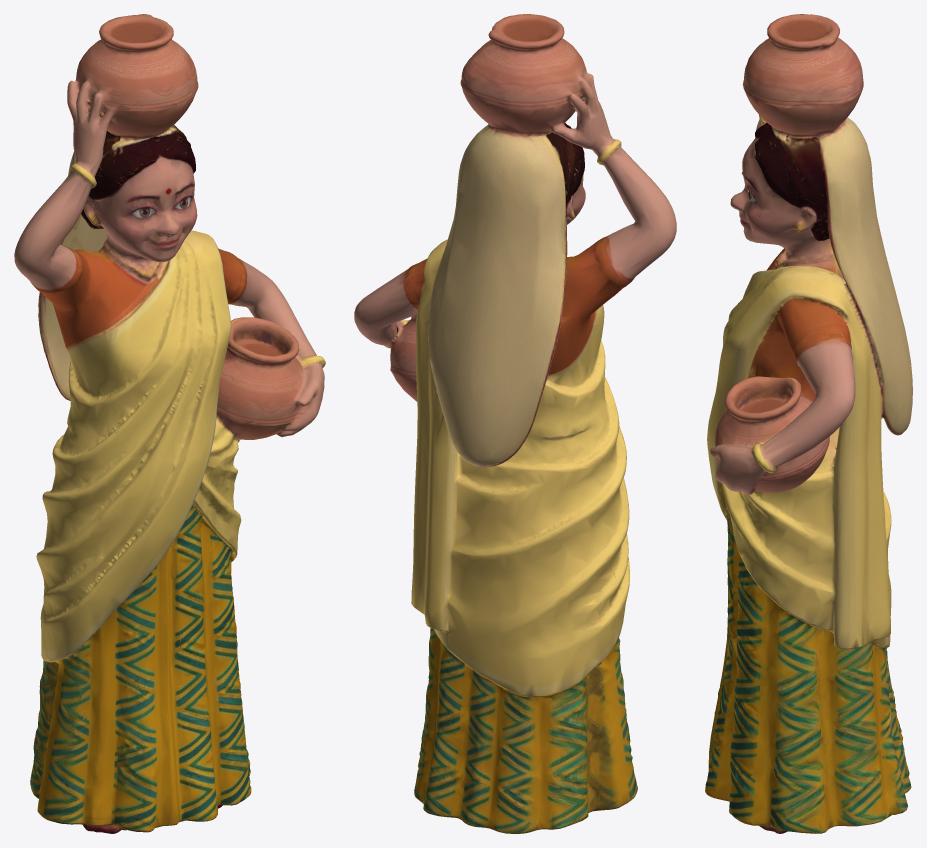
File: gavkari2_ladies.glb
3 views of the same model, side by side, from view 1: azimuth 30°, elevation 25°; view 2: azimuth 150°, elevation 25°; view 3: azimuth 270°, elevation 25° (orthographic).
Visible parts, largest first — view 1: Mesh_0; view 2: Mesh_0; view 3: Mesh_0.
Boxes of the visible parts, x1,y1,x2,y2 form: Mesh_0: (14,14,325,833); Mesh_0: (354,14,676,833); Mesh_0: (705,14,912,833).
Bounding box in the file's own units: 0.7745 × 1.91 × 0.4673.
1 material, 1 textured.
